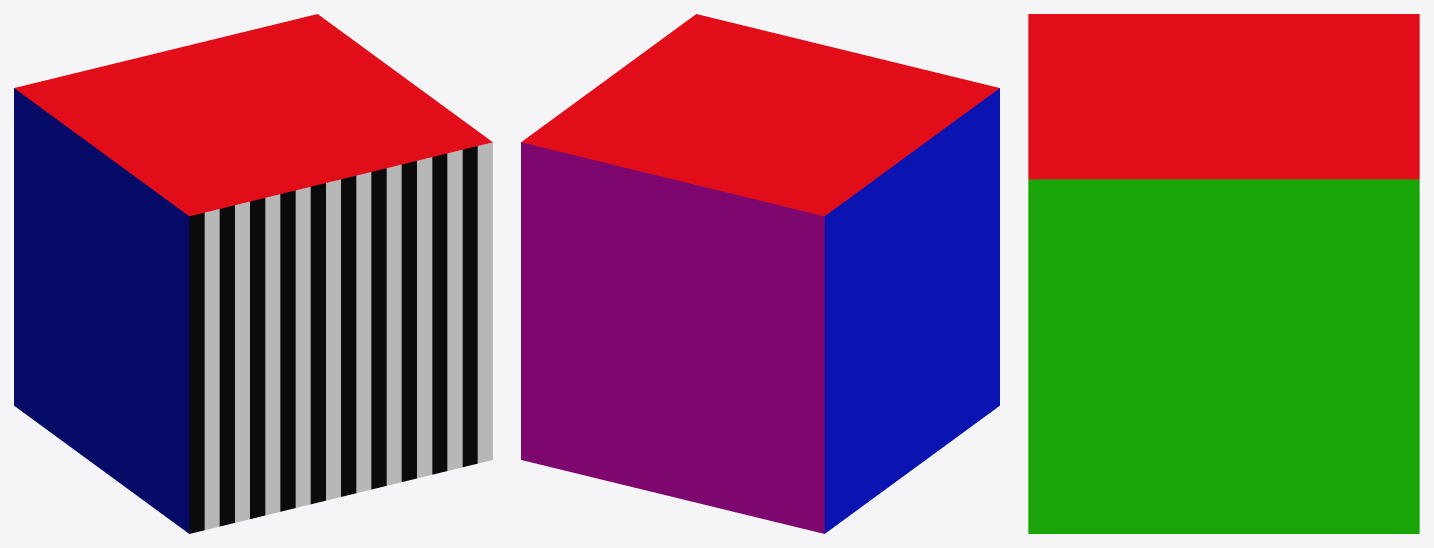
The model's file is CubeWithPattern.dae.
3 renders of one model, left to right at view 1: azimuth 30°, elevation 25°; view 2: azimuth 150°, elevation 25°; view 3: azimuth 270°, elevation 25°, orthographic. The views are drawn at different scales.
Visible parts, largest first — view 1: SketchUp (×22); view 2: SketchUp (×3); view 3: SketchUp (×2).
Part boxes in pixels (left/top/right/bottom): SketchUp (×22): left=14, top=14, right=492, bottom=533; SketchUp (×3): left=521, top=14, right=999, bottom=533; SketchUp (×2): left=1028, top=14, right=1419, bottom=533.
Size of the model in its own units: 7.87 by 7.87 by 7.87.
